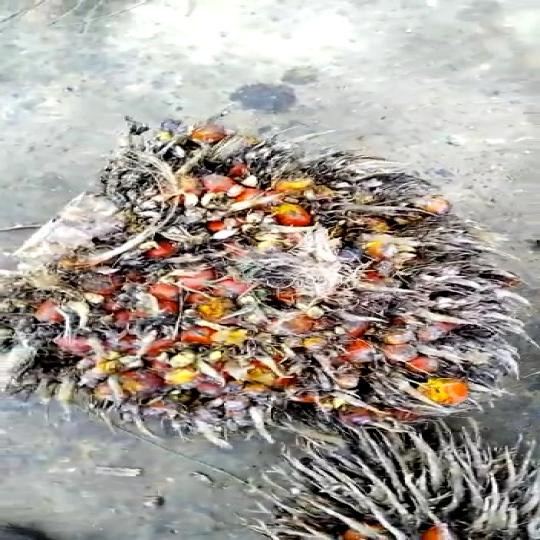terlalu masak: (0, 96, 540, 469)
